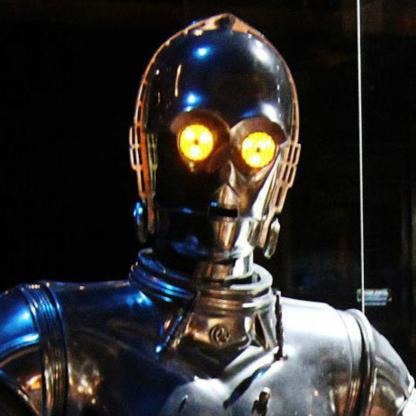Helmet: (125, 11, 303, 281)
